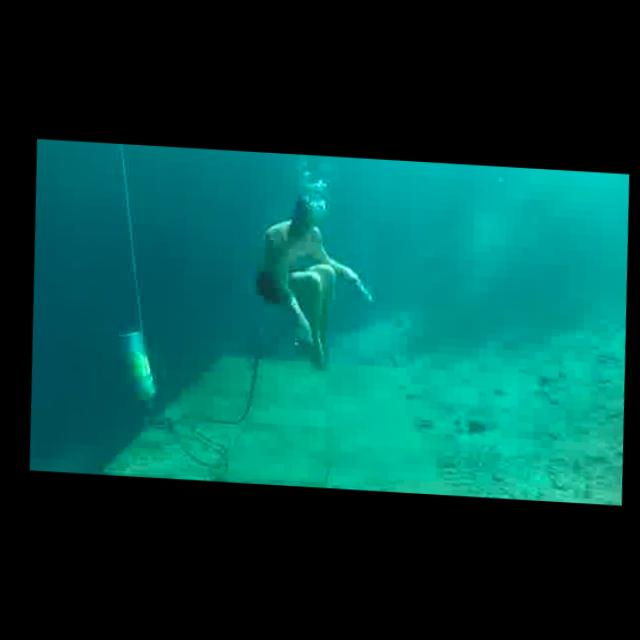human: (237, 177, 385, 383)
